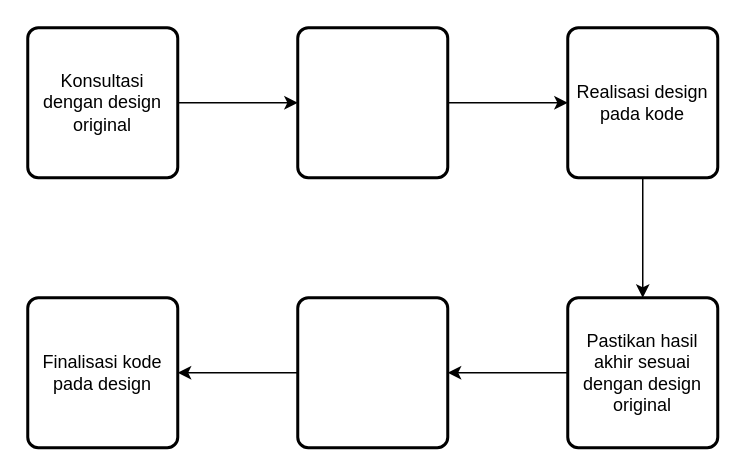
This 744x474 diagram has some shape labels left out. The shapes that lost their labels are listed below. From the top down, each one's box as (x1, y1, x2, y2) in pixels, then its label:
(296, 26, 448, 178): Abstraksi design ke model box
(296, 296, 448, 448): Konsultasi dengan designer
